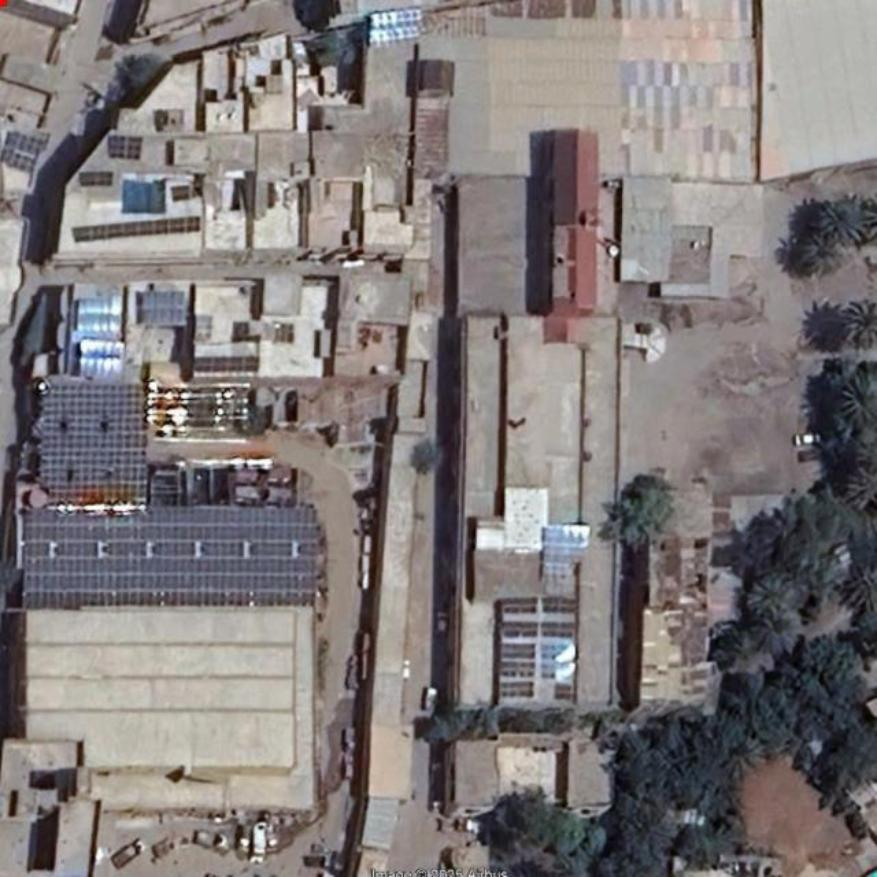Solarpanel: (25, 509, 319, 607), (39, 383, 147, 512), (74, 215, 197, 243), (0, 130, 46, 173), (369, 8, 418, 44), (77, 340, 122, 378), (544, 528, 591, 561), (80, 299, 118, 335), (144, 295, 183, 324), (193, 358, 256, 372), (498, 594, 538, 613), (109, 136, 142, 158), (544, 595, 576, 611), (500, 682, 531, 698), (544, 622, 577, 637), (79, 170, 112, 185), (541, 645, 574, 660), (542, 663, 575, 678), (500, 624, 538, 636), (501, 663, 534, 676), (500, 646, 534, 658), (555, 685, 573, 700), (172, 186, 189, 198)
